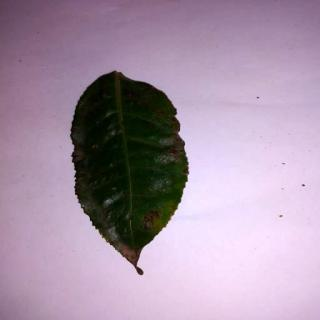Bird Eye Spot: (71, 71, 190, 277)
